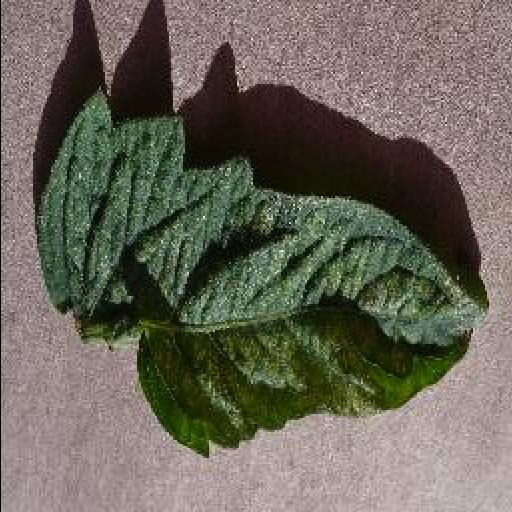disease_tomato: (38, 96, 490, 458)
